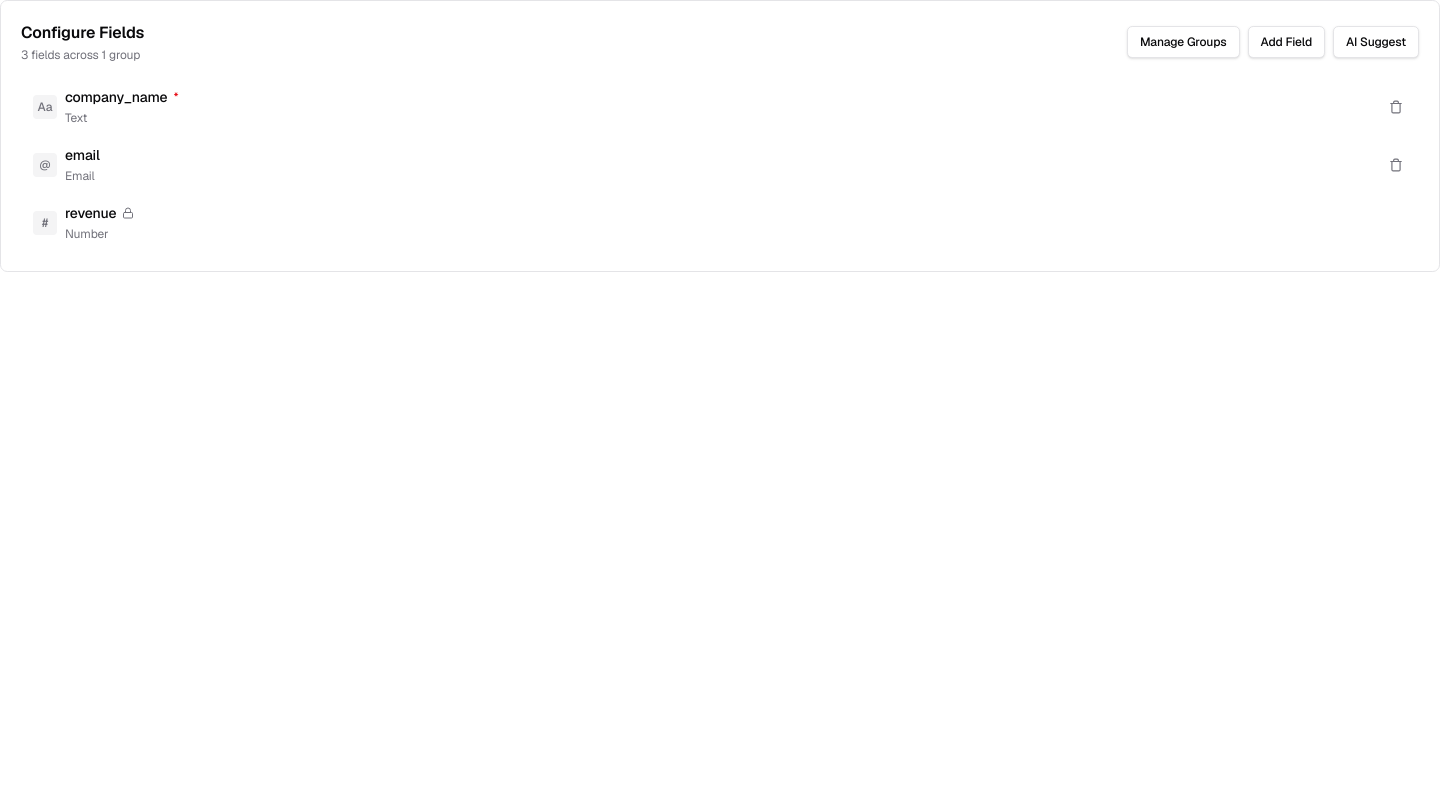
Scenario: InlineFieldManager › confirmation dialog › shows confirmation before adding a new field
Step 1. Click the button with aria-label "Add a new field" → click(1286, 42), box [1248,26,1325,58]
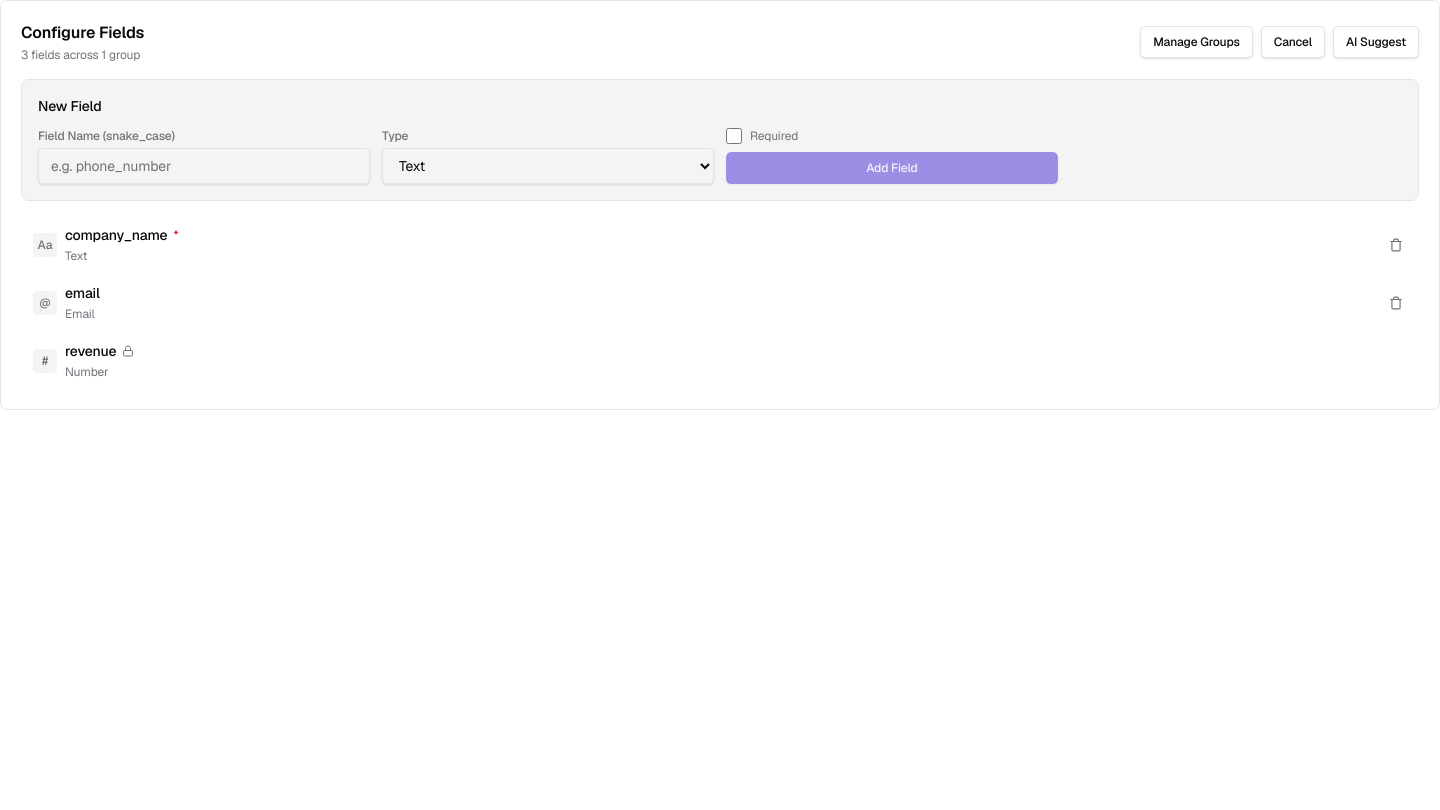
Step 2. Type "new_field" into the field labelled "Field Name (snake_case)" → (204, 166), box [38,148,370,184]
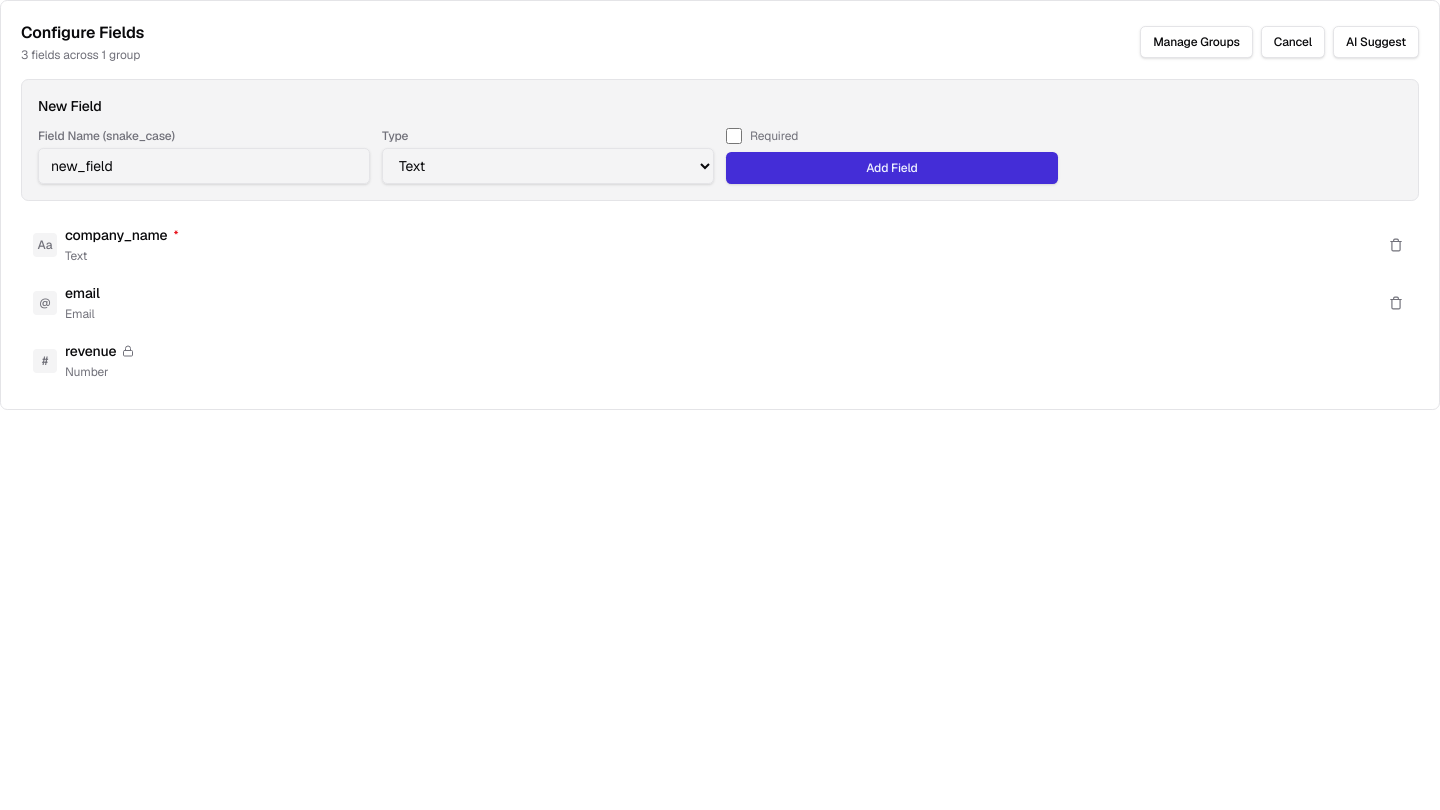
Step 3. Click the button "Add Field" → click(892, 168), box [726,152,1058,184]
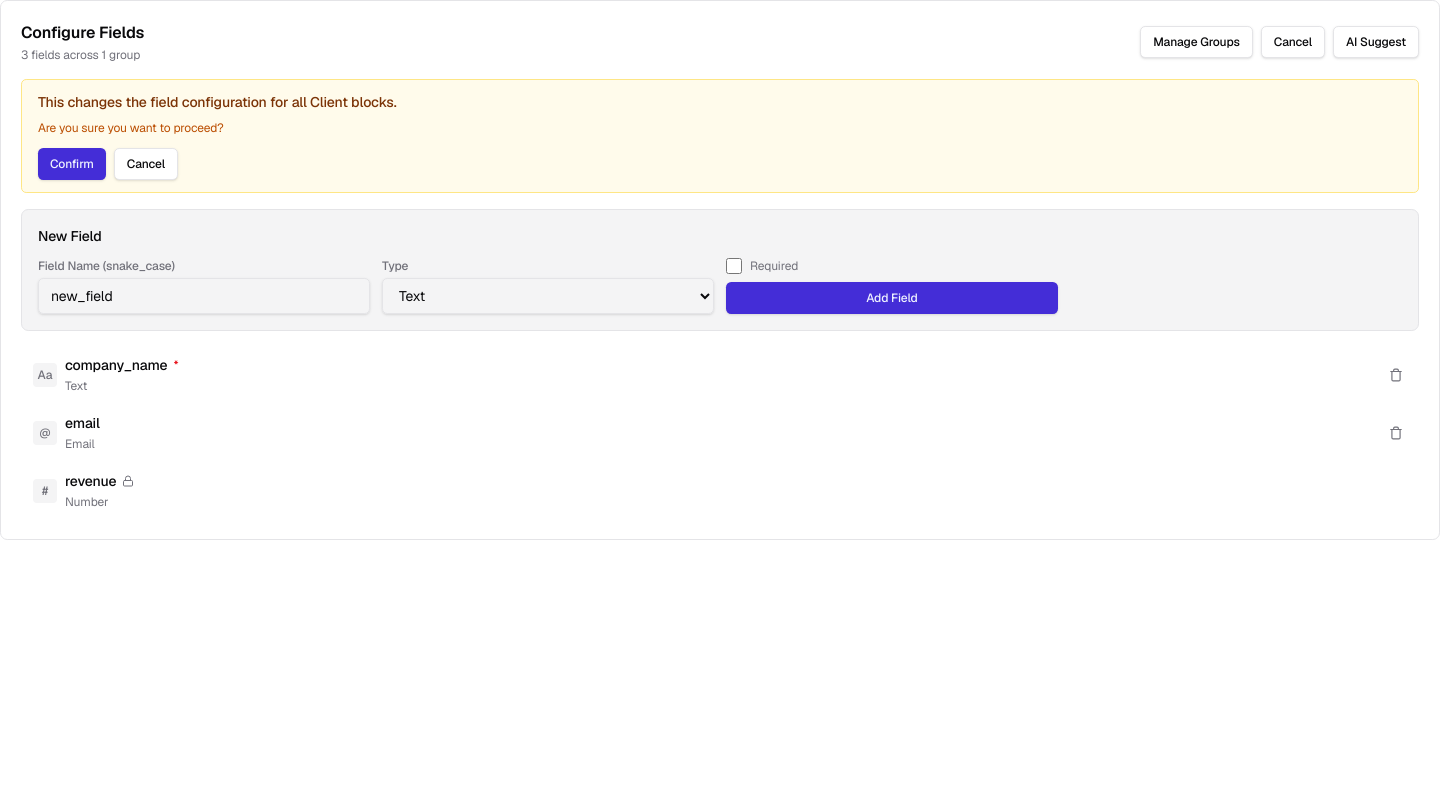
Expected: the text "This changes the field configuration for all Client blocks." is shown, [38,93,397,111]
